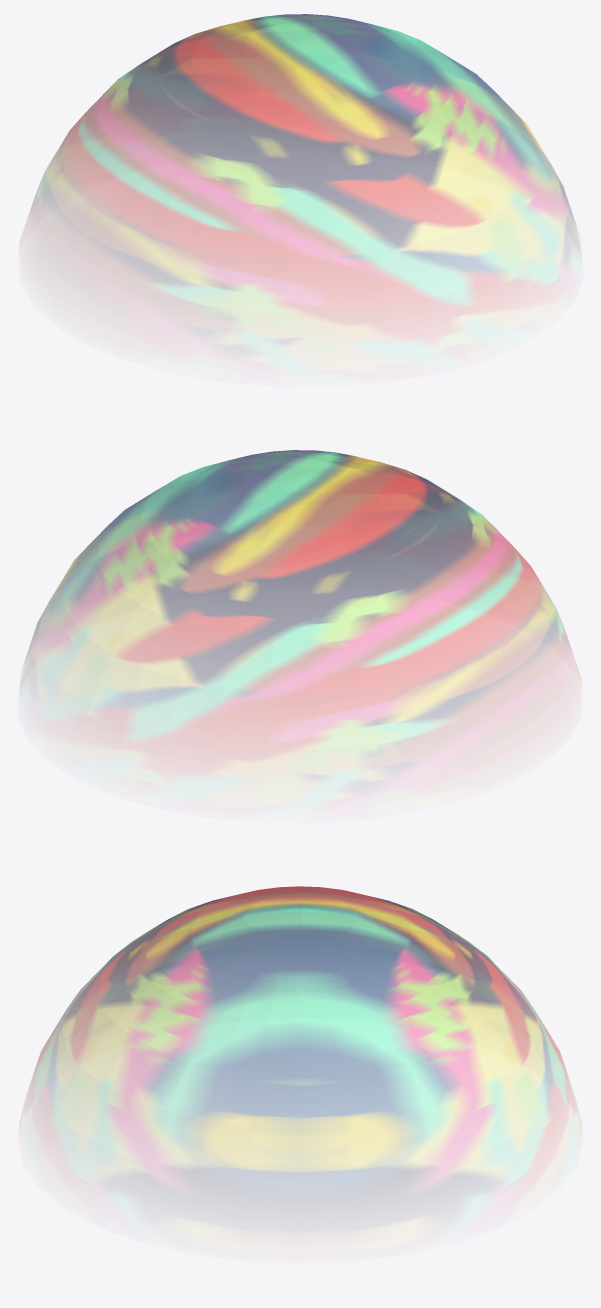
Rendered from 28-kunterbunt-02.glb.
The picture shows the model from 3 angles, top to bottom: view 1: azimuth 30°, elevation 25°; view 2: azimuth 150°, elevation 25°; view 3: azimuth 270°, elevation 25°; orthographic projection.
Parts seen in each view (by area): view 1: kunterbunt; view 2: kunterbunt; view 3: kunterbunt.
Part boxes in pixels (<box>): kunterbunt: <box>24,14,578,321</box>; kunterbunt: <box>22,450,576,757</box>; kunterbunt: <box>25,886,575,1198</box>.
Size of the model in its own units: 6 by 3 by 6.
Materials: 1 (1 with a texture image).
